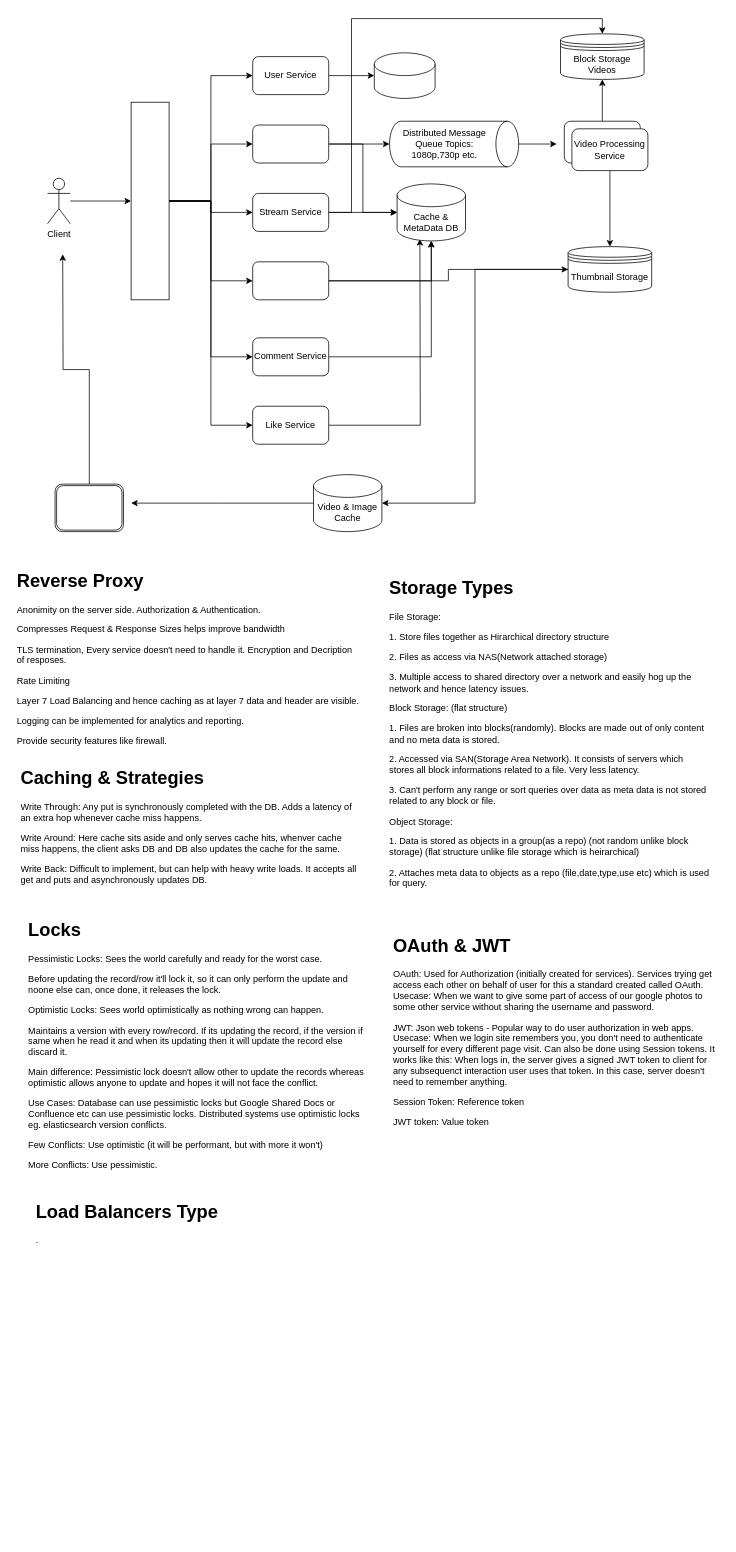
Some shapes in this 736 by 1552 pixel diagram are drawn without their labels. Here are the shapes that lost their labels. From the top down, the centre of each, then its label:
(404,75): Cache & User DB
(290,143): Upload Service
(149,200): Reverse Proxy also act as Layer 7 LB
(290,280): Thumbnail Service
(89,507): CDN
